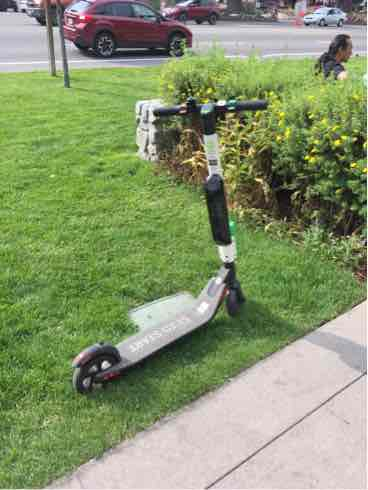scooter: (61, 88, 278, 399)
